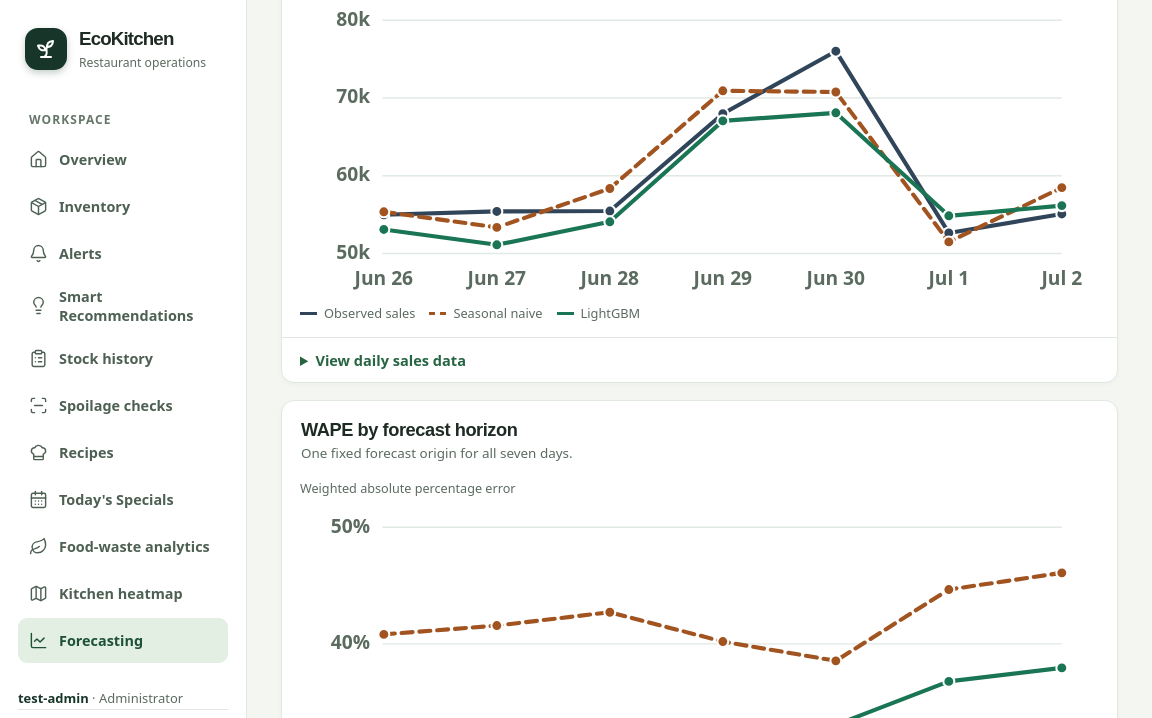
it: renders all chart dates and exposes the complete chart data through keyboard-accessible disclosures
(page scrolled)
Expected: the text "Jun 26" is shown, [353,264,413,291]
Expected: the text "Jul 2" is shown, [1039,264,1082,291]
Click the heading "View daily sales data" at (391, 360), box [315,350,466,370]
(page scrolled)
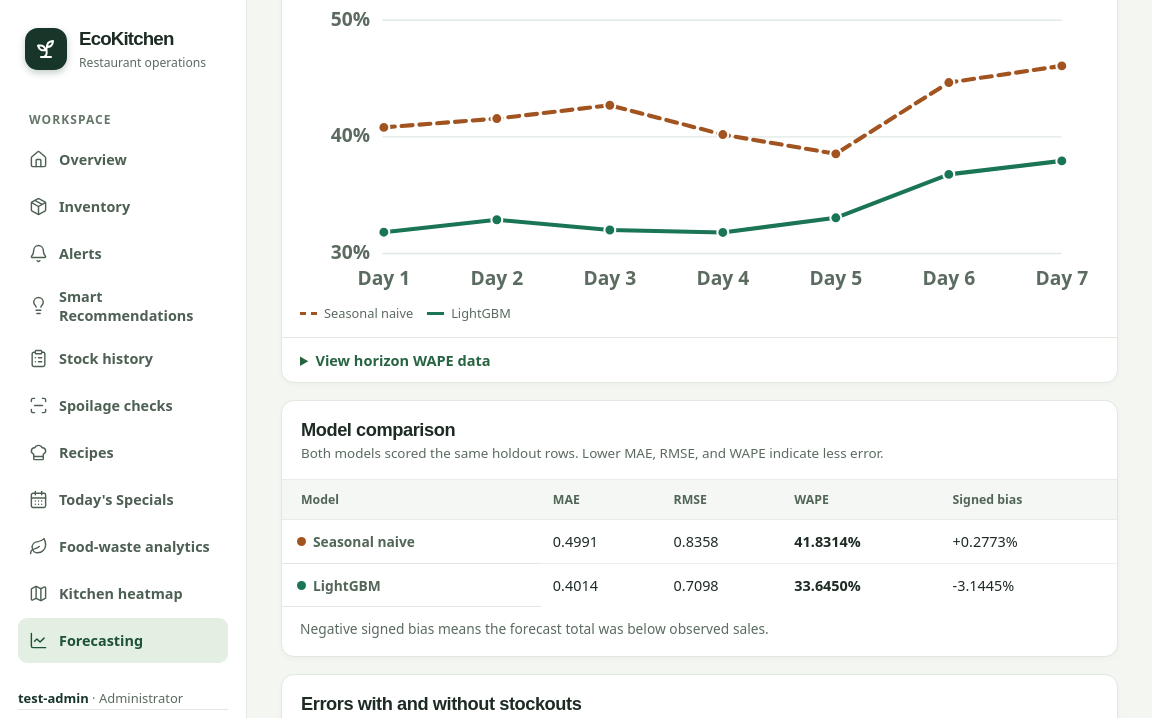
Click the heading "View horizon WAPE data" at (403, 360), box [315,350,491,370]
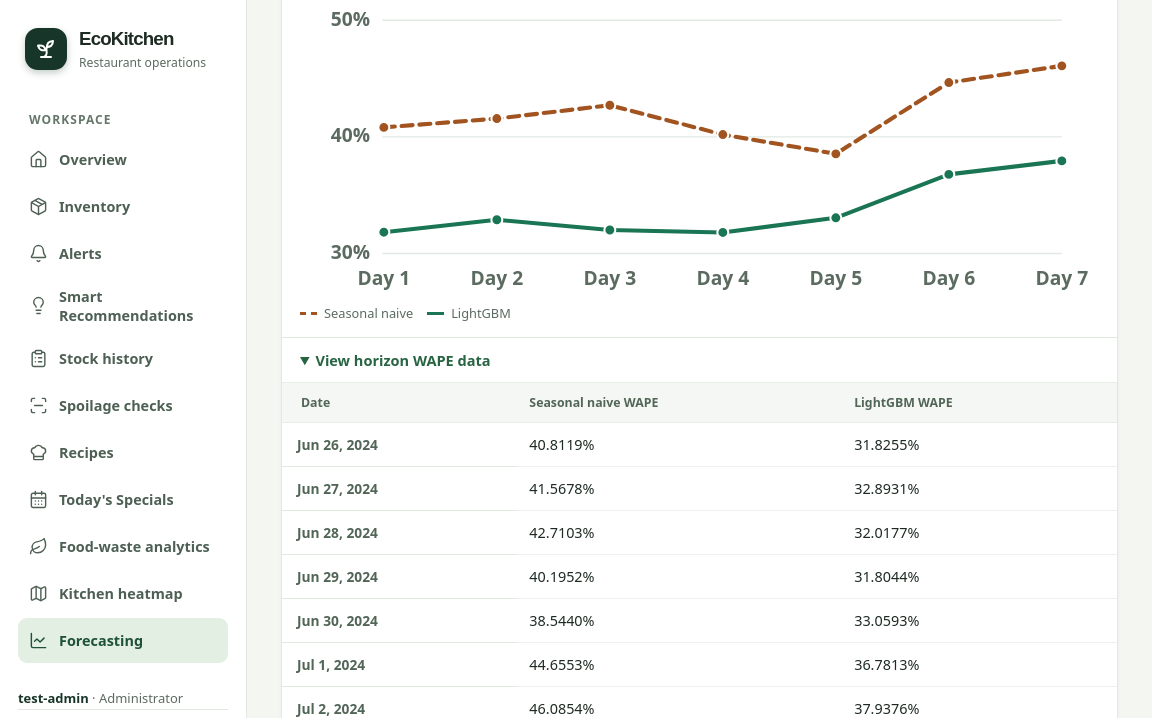
Now the row "Jun 26, 2024 40.8119% 31.8255%" is shown, box [282,423,1117,467]
